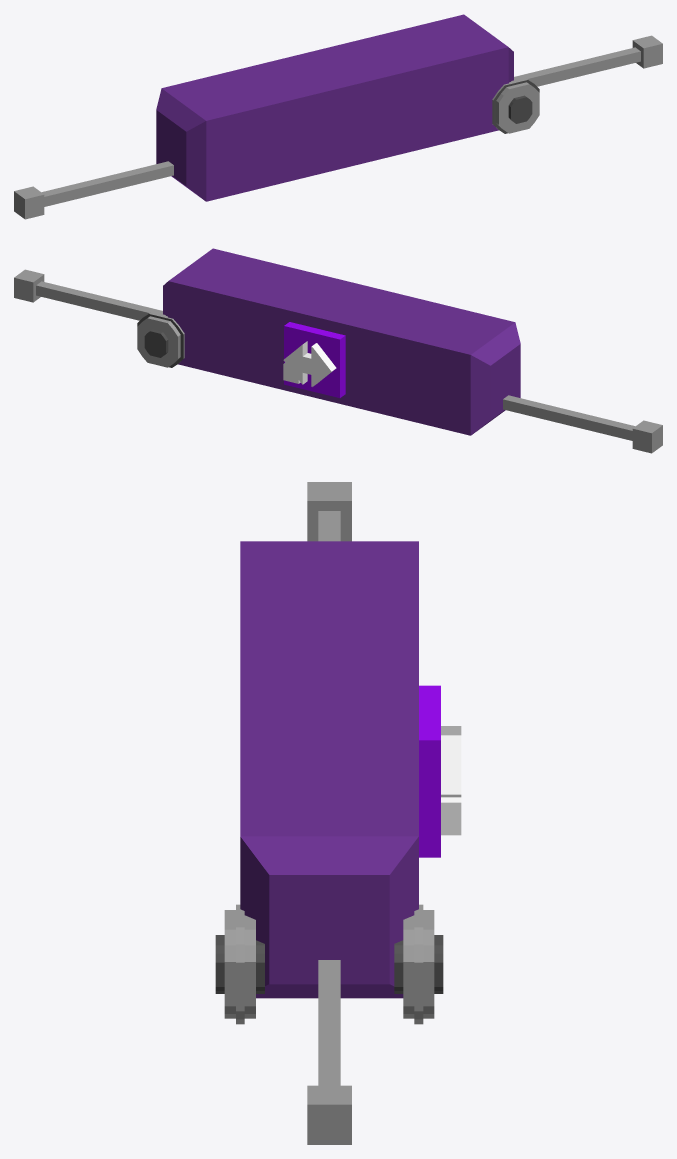
Rendered from Platforms.fbx.
3 renders of one model, top to bottom at view 1: azimuth 30°, elevation 25°; view 2: azimuth 150°, elevation 25°; view 3: azimuth 270°, elevation 25°, orthographic. The views are drawn at different scales.
Visible parts, largest first — view 1: Platform Body, Platform Edge, Path, Hinge_1, End 2, End 1, Hinge Interior_1, Hinge Exterior_1; view 2: Platform Body, Platform Edge, Path, Side arrow Square, Hinge, End 2, Improved Curved Arrow, End 1, Hinge Interior, Left Arrow, Right Arrow, Hinge Exterior; view 3: Platform Body, Platform Edge_1, Side arrow Square, Path, End 1, Hinge_1, Hinge, End 2, Left Arrow, Hinge Exterior, Hinge Interior, Hinge Exterior_1 (+2 smaller).
Part boxes in pixels (x1,y1,x2,y2): Platform Body: (162, 14, 508, 201); Platform Edge: (156, 88, 206, 201); Path: (41, 47, 640, 206); Hinge_1: (496, 78, 539, 133); End 2: (14, 186, 44, 219); End 1: (632, 35, 662, 68); Hinge Interior_1: (508, 95, 532, 123); Hinge Exterior_1: (492, 78, 539, 133); Platform Body: (168, 248, 514, 435); Platform Edge: (470, 322, 520, 435); Path: (36, 281, 635, 440); Side arrow Square: (284, 322, 345, 397); Hinge: (137, 312, 180, 367); End 2: (632, 420, 662, 453); Improved Curved Arrow: (283, 343, 330, 386); End 1: (14, 269, 44, 302); Hinge Interior: (144, 329, 168, 357); Left Arrow: (283, 341, 307, 384); Right Arrow: (312, 343, 336, 386); Hinge Exterior: (137, 312, 184, 367); Platform Body: (240, 541, 418, 836); Platform Edge_1: (240, 836, 418, 998); Side arrow Square: (419, 685, 440, 857); Path: (318, 511, 340, 1085); End 1: (307, 1085, 351, 1144); Hinge_1: (224, 910, 255, 1018); Hinge: (403, 910, 434, 1018); End 2: (307, 482, 351, 541); Left Arrow: (441, 735, 461, 797); Hinge Exterior: (414, 904, 423, 1024); Hinge Interior: (394, 935, 443, 993); Hinge Exterior_1: (236, 904, 244, 1024).
Size of the model in its own units: 103 by 13.12 by 17.19.
6 materials, 6 textured.
